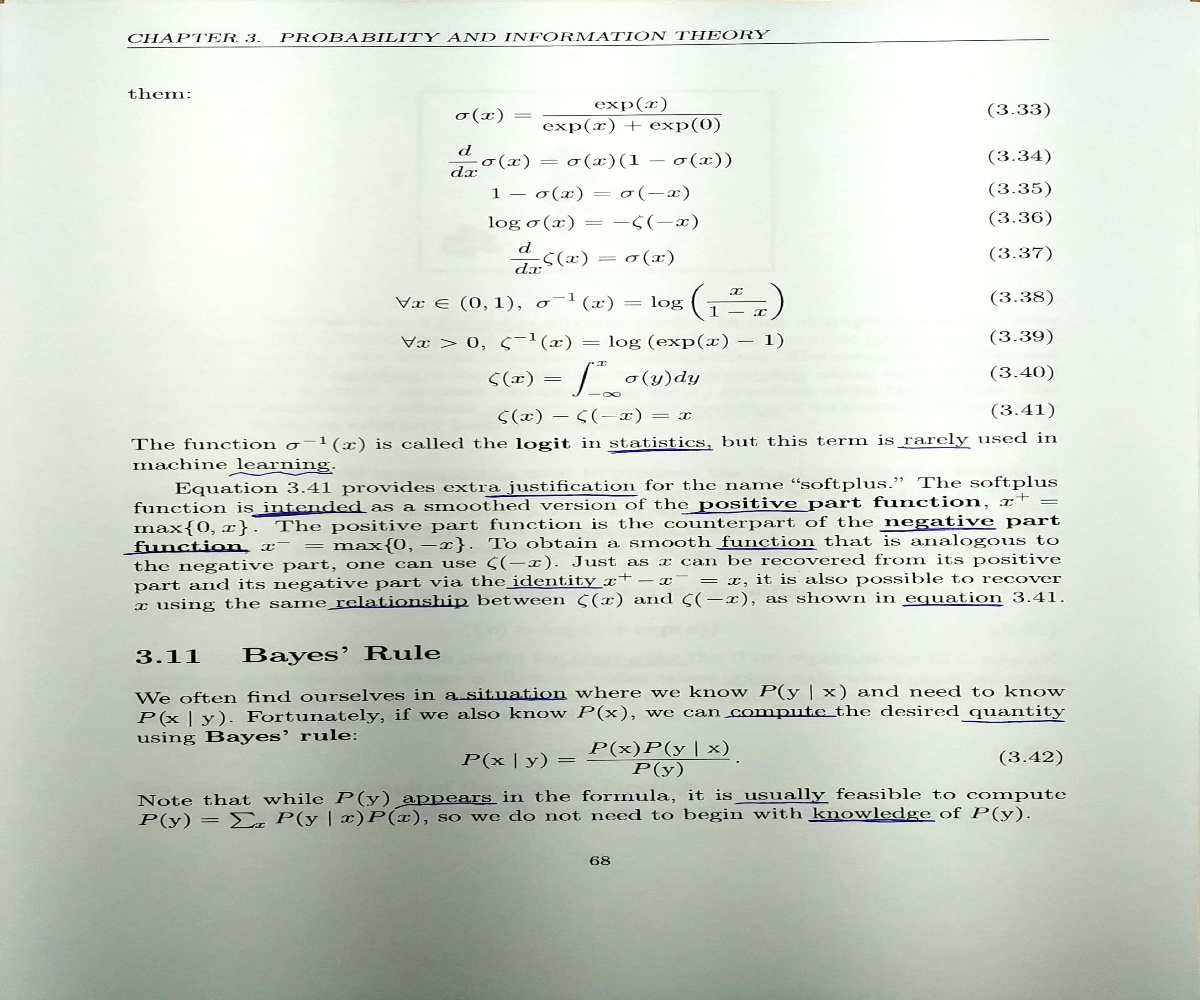underline: (481, 488, 643, 503), (325, 601, 474, 615), (676, 504, 818, 518), (801, 815, 939, 829), (119, 546, 255, 558), (877, 524, 1003, 536), (224, 468, 340, 481), (390, 800, 504, 813), (899, 599, 1007, 612), (714, 542, 820, 555), (956, 717, 1069, 729), (499, 582, 610, 594), (247, 508, 372, 518), (604, 446, 719, 456), (720, 712, 845, 721), (449, 696, 572, 705), (730, 798, 834, 807), (896, 444, 975, 453)
